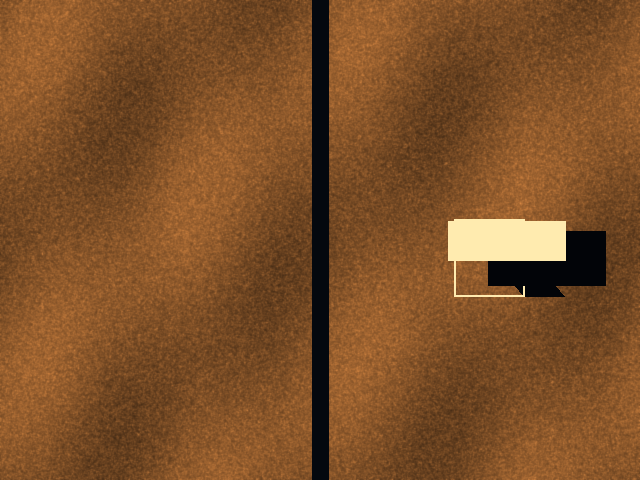Metal Object: (448, 221, 565, 260)
Plastic Debris: (454, 219, 524, 296)
